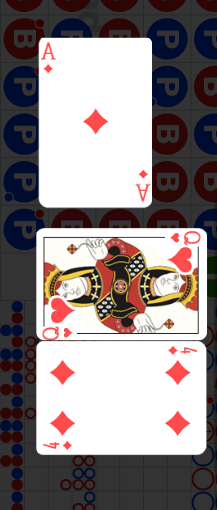4D: (166, 345, 198, 356)
AD: (133, 167, 150, 202), (41, 42, 58, 76)
